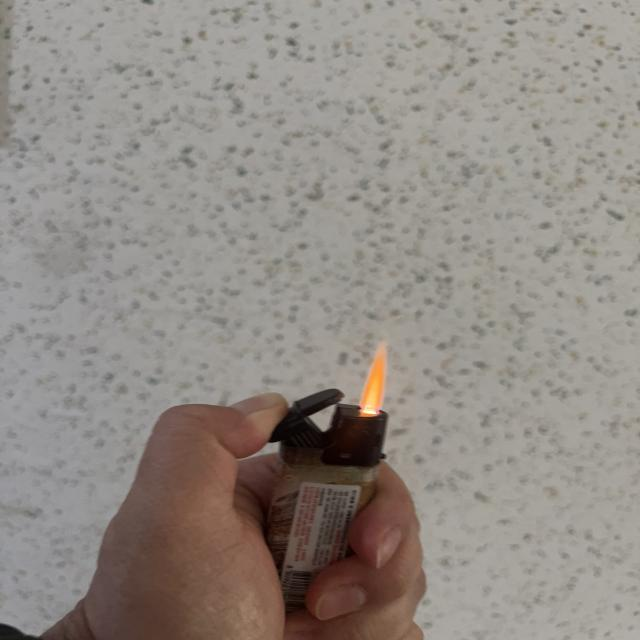fire: (360, 346, 388, 413)
